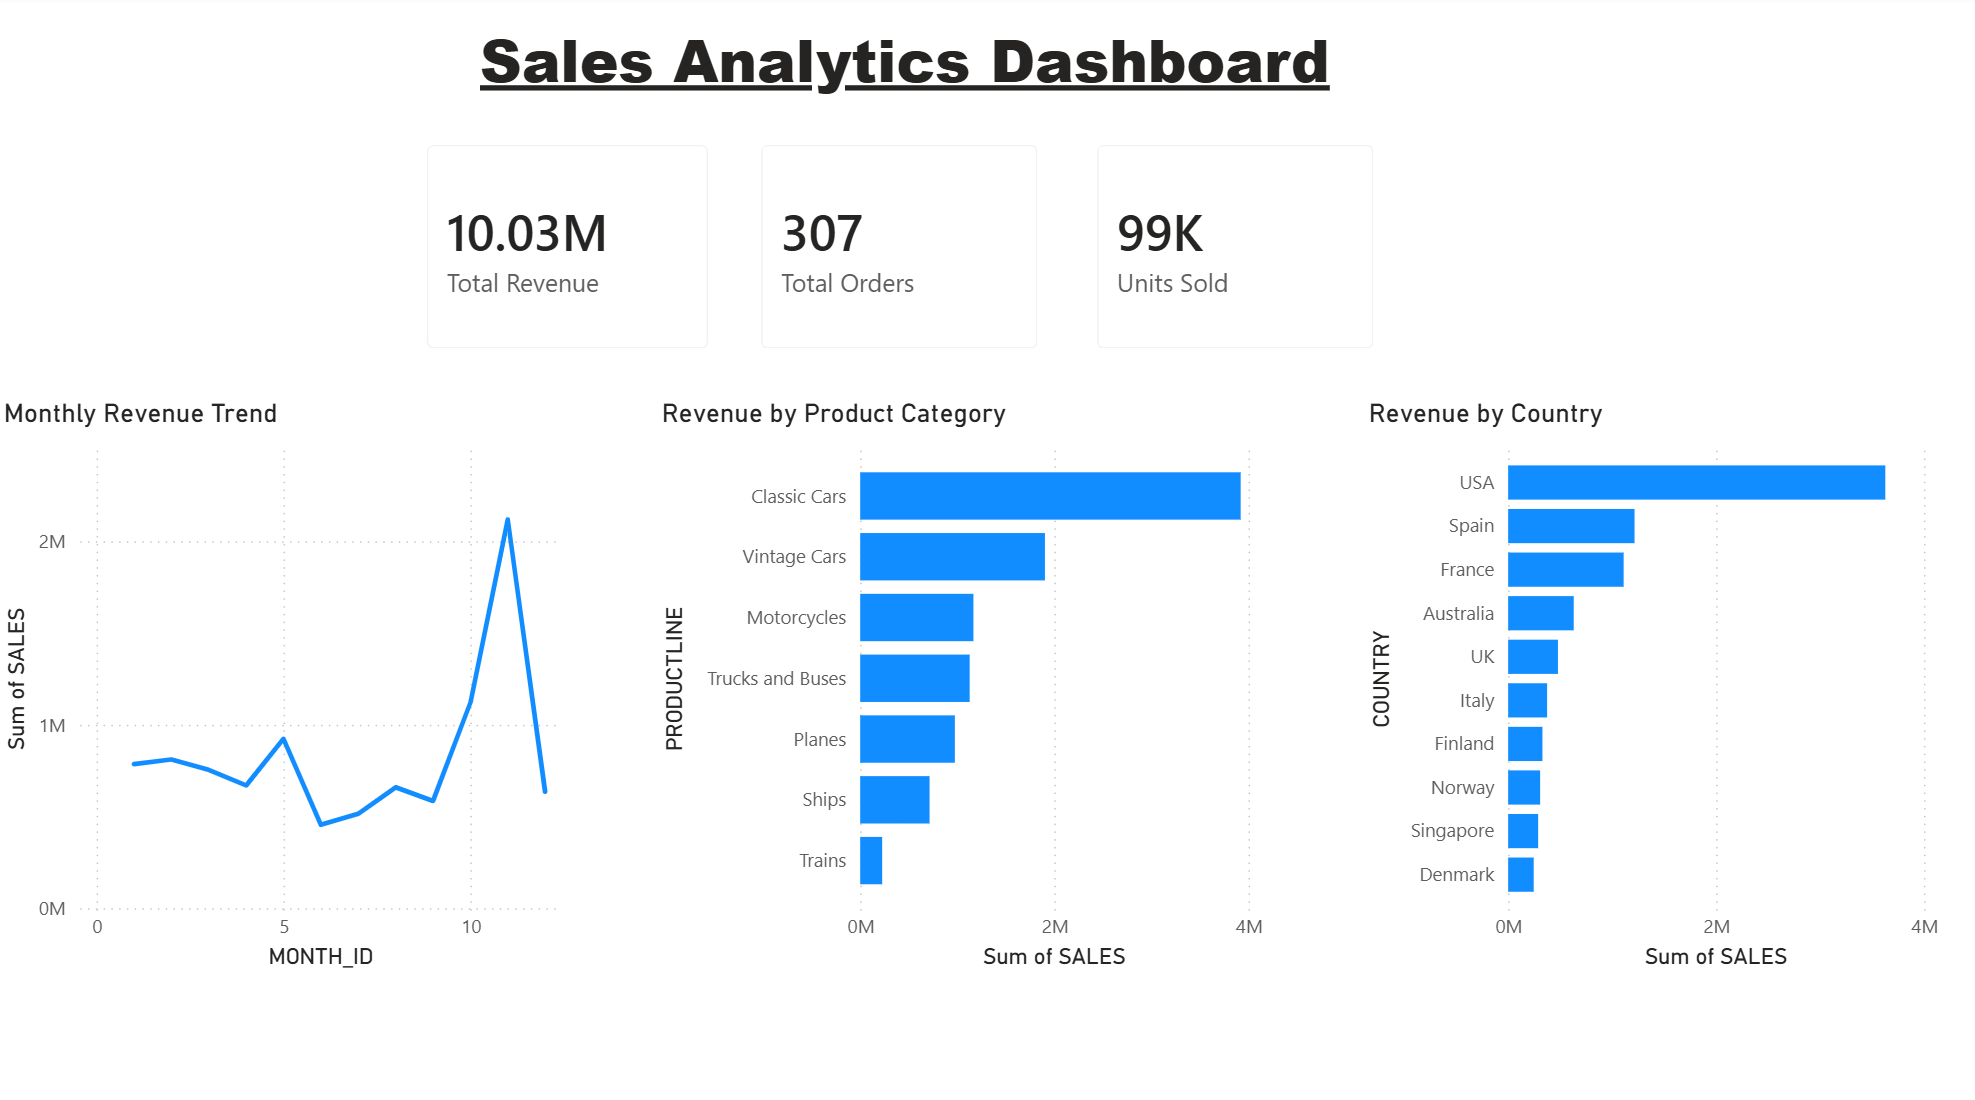

The page's visual inventory and layout, read from the dashboard file:
{"tool":"powerbi","page":{"name":"Page 1","canvas":[1280,720],"ordinal":0},"visuals":[{"type":"cardVisual","fields":{"Data":["Sum(sales_data_cleaned.SALES)"]},"box":[260.2,80,215.1,165.6],"z":0},{"type":"cardVisual","fields":{"Data":["Count(sales_data_cleaned.ORDERNUMBER)"]},"box":[475.3,80,212.9,165.6],"z":1000},{"type":"cardVisual","fields":{"Data":["Sum(sales_data_cleaned.QUANTITYORDERED)"]},"box":[691.5,80,212.9,165.6],"z":2000},{"type":"lineChart","title":"Monthly Revenue Trend","fields":{"Category":["sales_data_cleaned.MONTH_ID"],"Y":["Sum(sales_data_cleaned.SALES)"]},"box":[0,260.2,368.3,371.7],"z":3000},{"type":"clusteredBarChart","title":"Revenue by Product Category","fields":{"Category":["sales_data_cleaned.PRODUCTLINE"],"Y":["Sum(sales_data_cleaned.SALES)"]},"box":[423.5,260.2,396.4,371.7],"z":4000},{"type":"clusteredBarChart","title":"Revenue by Country","fields":{"Category":["sales_data_cleaned.COUNTRY"],"Y":["Sum(sales_data_cleaned.SALES)"]},"box":[878.5,260.2,376.2,371.7],"z":5000},{"type":"textbox","box":[306.2,10.4,597.5,69.9],"z":5001}]}

Visuals, with their boxes in screenshot pixels (x1, y1, x2, y2), scaled from the page's 1280x720 canvas onto the 1975x1100 screenshot:
cardVisual - Sum(sales_data_cleaned.SALES): bbox=[401, 122, 733, 375]
cardVisual - Count(sales_data_cleaned.ORDERNUMBER): bbox=[733, 122, 1062, 375]
cardVisual - Sum(sales_data_cleaned.QUANTITYORDERED): bbox=[1067, 122, 1395, 375]
"Monthly Revenue Trend" lineChart: bbox=[0, 398, 568, 965]
"Revenue by Product Category" clusteredBarChart: bbox=[653, 398, 1265, 965]
"Revenue by Country" clusteredBarChart: bbox=[1355, 398, 1936, 965]
textbox: bbox=[472, 16, 1394, 123]
